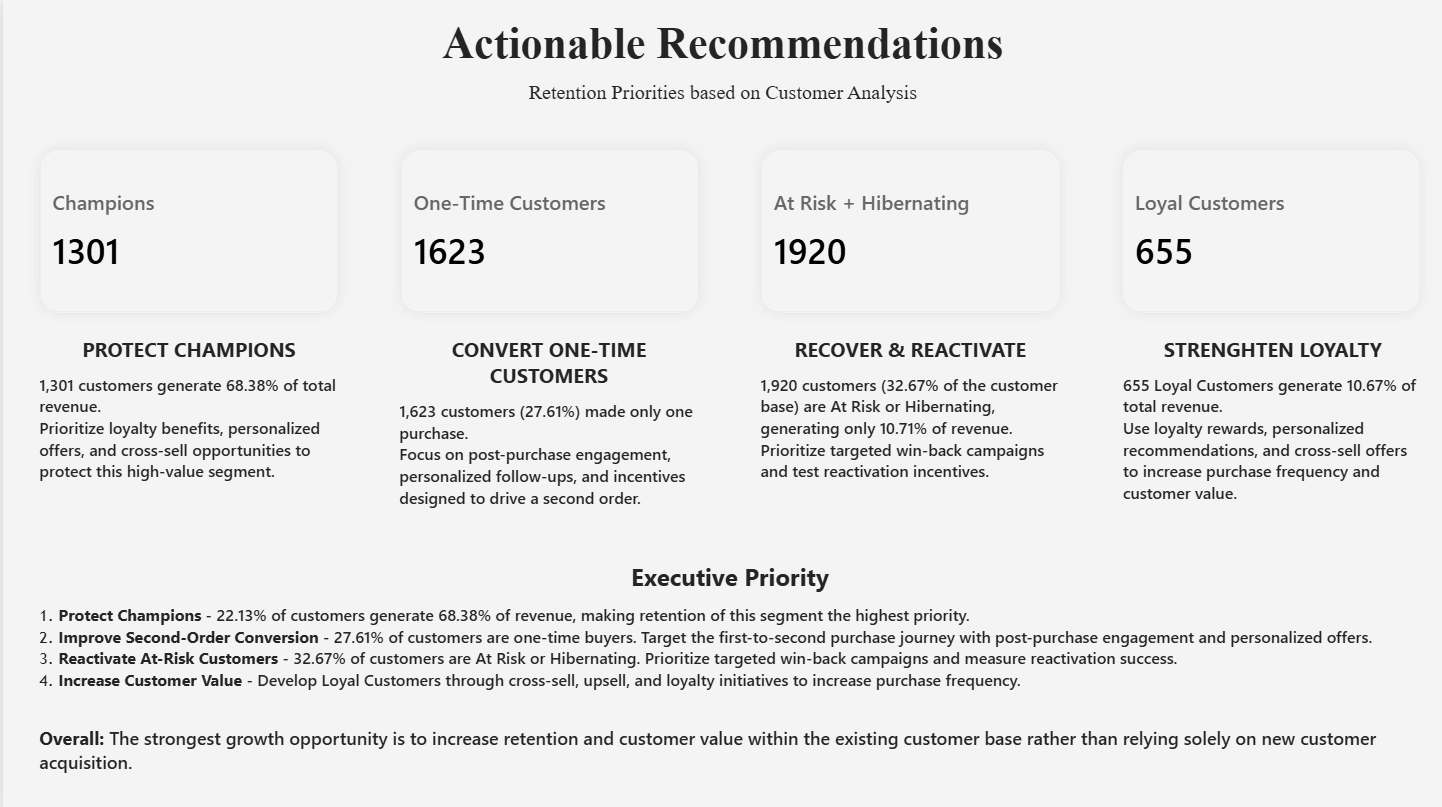

What the dashboard file says about the page in this screenshot:
{"tool":"powerbi","page":{"name":"Actionable Recommendations","canvas":[1920,1080],"ordinal":2},"visuals":[{"type":"textbox","box":[27.9,24.4,1862.8,125.6],"z":0},{"type":"cardVisual","fields":{"Data":["customer_segments.Customers by Segment"]},"box":[48.8,198.8,399.4,219.8],"z":1},{"type":"textbox","box":[48.8,446.5,399.4,268.6],"z":2},{"type":"cardVisual","fields":{"Data":["customer_segments.Customers by Segment"]},"box":[1009.9,198.8,401.2,219.8],"z":3},{"type":"textbox","box":[1009.9,446.5,399.4,268.6],"z":4},{"type":"cardVisual","fields":{"Data":["customer_segments.Customers by Segment"]},"box":[530.2,198.8,399.4,219.8],"z":5},{"type":"textbox","box":[528.5,446.5,399.4,268.6],"z":6},{"type":"cardVisual","fields":{"Data":["customer_segments.Customers by Segment"]},"box":[1491.3,198.8,399.4,219.8],"z":7},{"type":"textbox","box":[1493,446.5,399.4,268.6],"z":8},{"type":"textbox","box":[48.8,746.5,1841.9,307],"z":9}]}

Visuals, with their boxes in screenshot pixels (x1, y1, x2, y2), scaled from the page's 1920x1080 canvas onto the 1442x807 screenshot:
textbox: 21,18,1420,112
cardVisual - customer_segments.Customers by Segment: 37,149,337,313
textbox: 37,334,337,534
cardVisual - customer_segments.Customers by Segment: 758,149,1060,313
textbox: 758,334,1058,534
cardVisual - customer_segments.Customers by Segment: 398,149,698,313
textbox: 397,334,697,534
cardVisual - customer_segments.Customers by Segment: 1120,149,1420,313
textbox: 1121,334,1421,534
textbox: 37,558,1420,787
